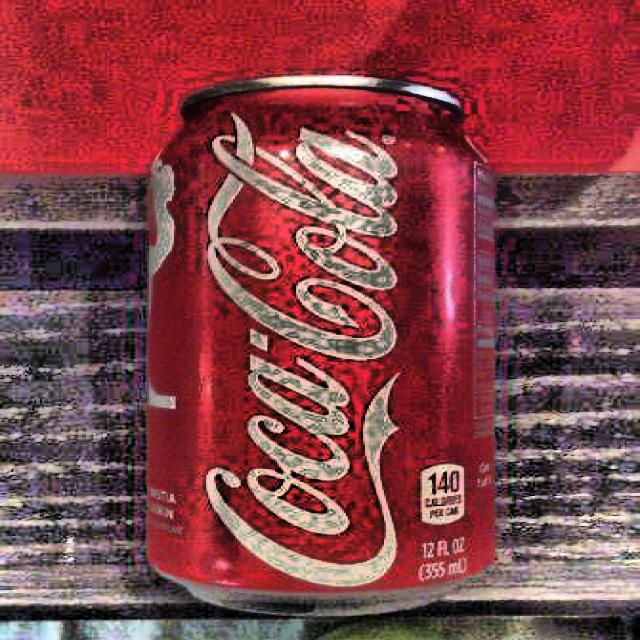Cans: (132, 57, 544, 637)
